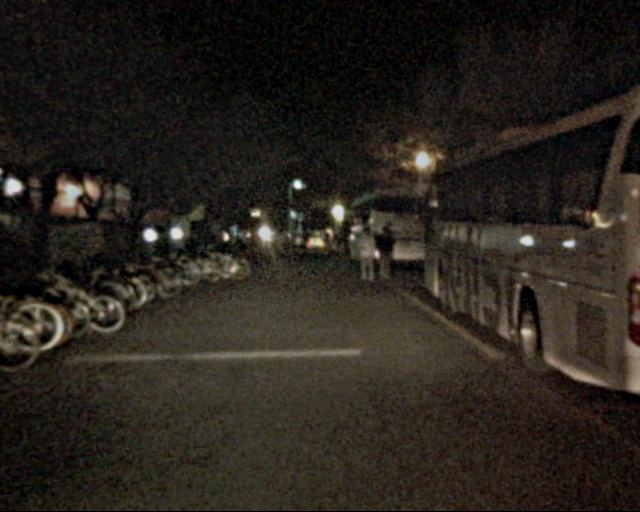person: (355, 229, 379, 287), (372, 226, 396, 284), (329, 223, 348, 269)
